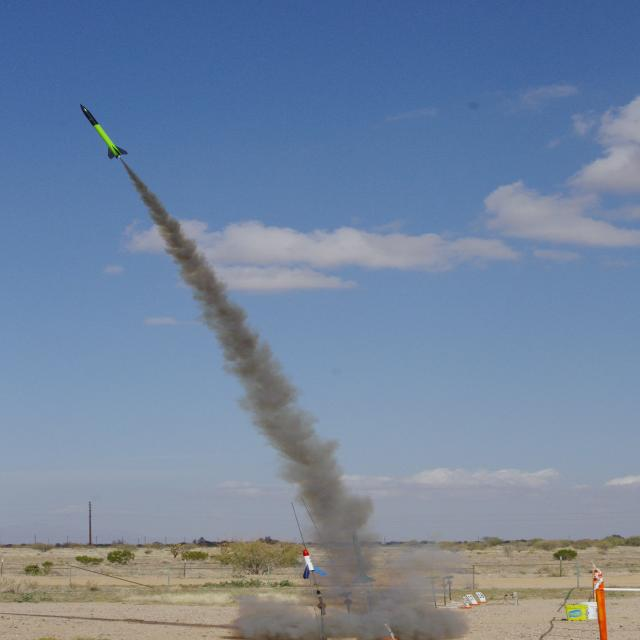Rocket: (80, 104, 128, 160), (352, 532, 376, 584), (302, 550, 327, 580)
